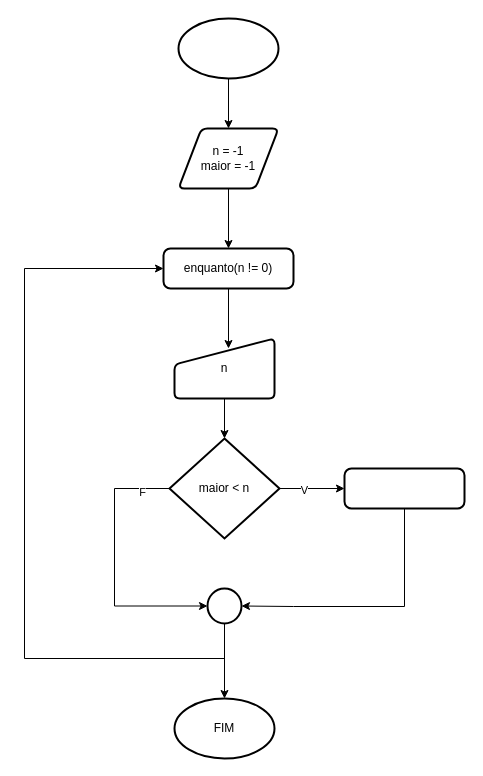
Image size: 483x776. Some labels were removed from this diagram. Each missing label, with the centre of its shape:
"INICIO" goes at [228,48].
"maior = n" goes at [404,488].
